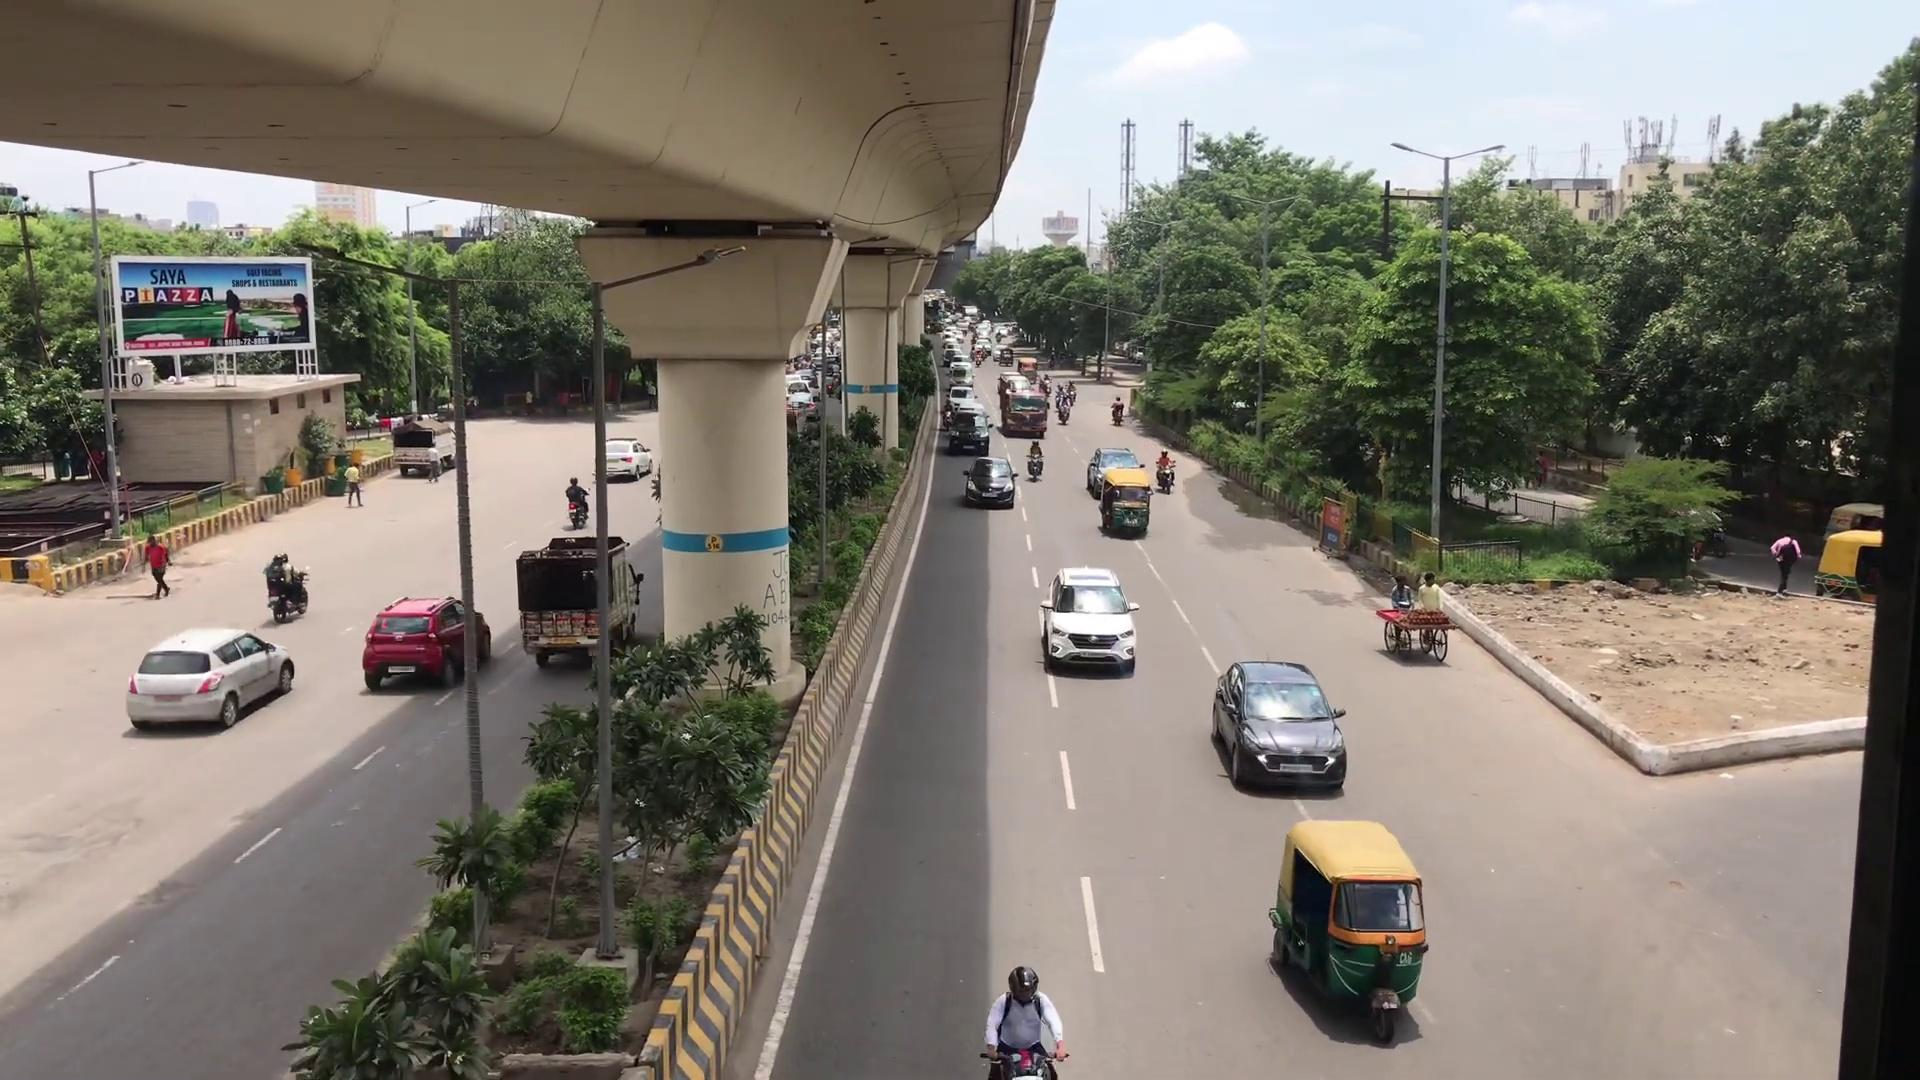Auto: (1271, 815, 1428, 1026), (1096, 467, 1150, 538)
Bike: (982, 953, 1065, 1079), (265, 545, 310, 622)
Car: (1211, 658, 1349, 793), (128, 624, 293, 732), (361, 593, 477, 687), (1039, 564, 1135, 675)
Truck: (516, 526, 638, 670)
